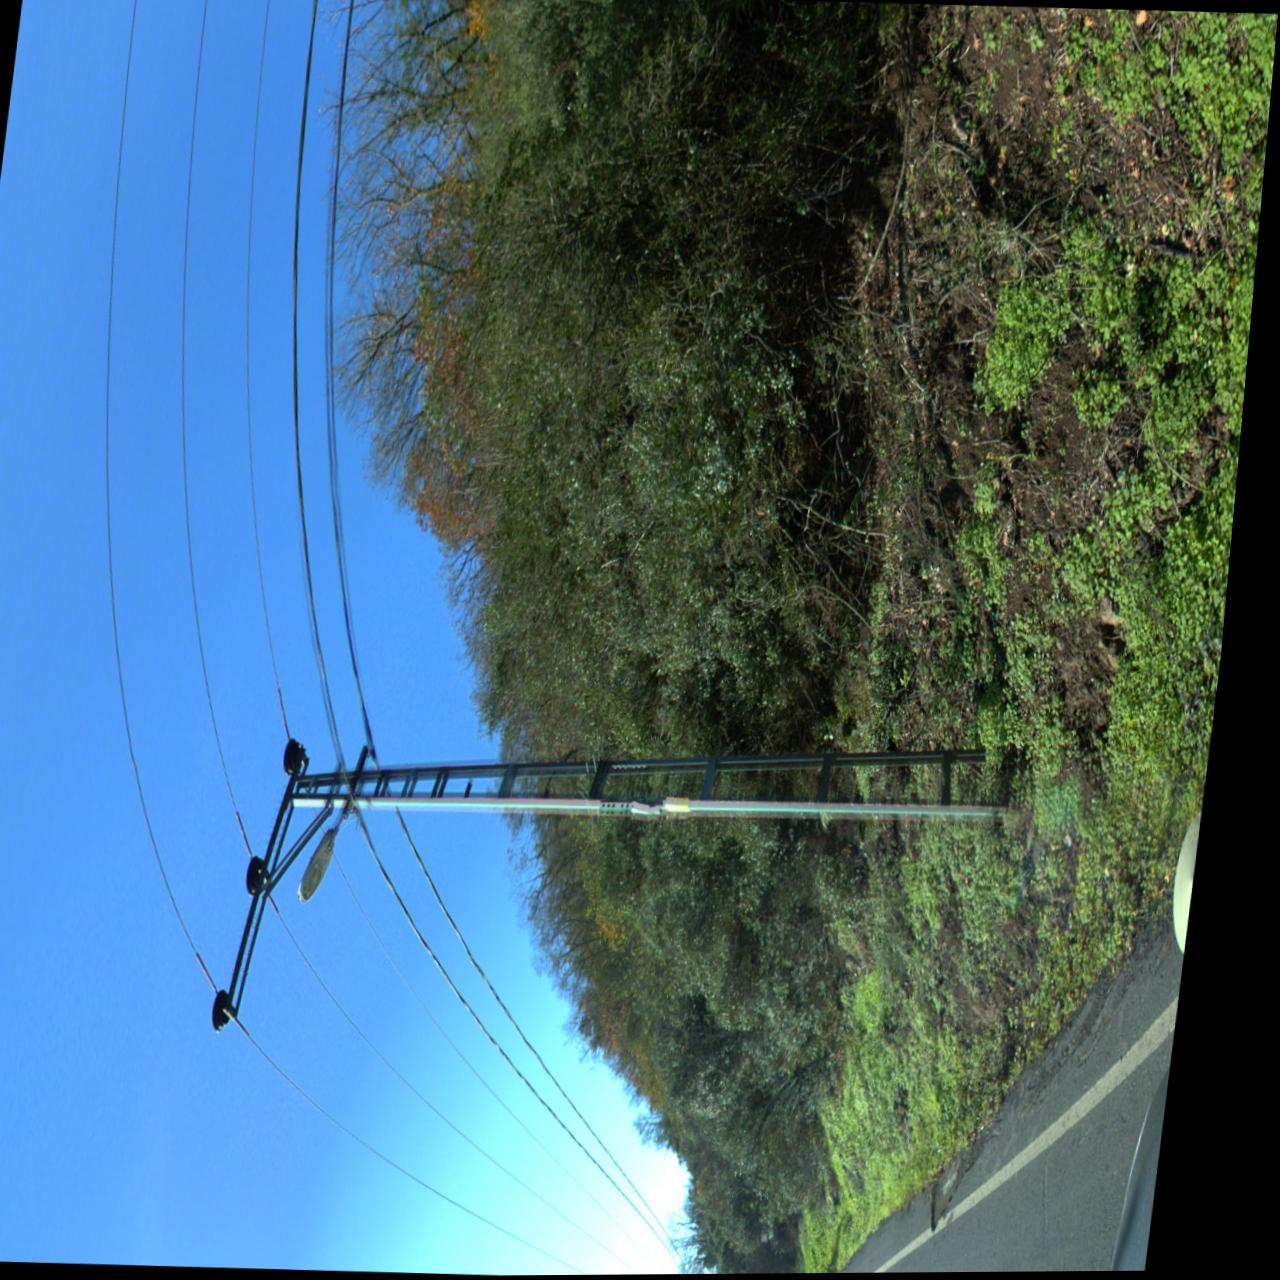Utility Pole Information Plate: (647, 802, 674, 817), (681, 799, 704, 816)
